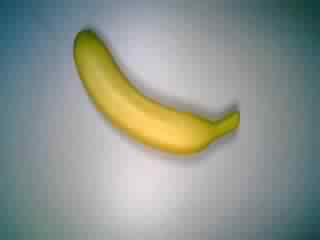banana: (70, 27, 242, 159)
